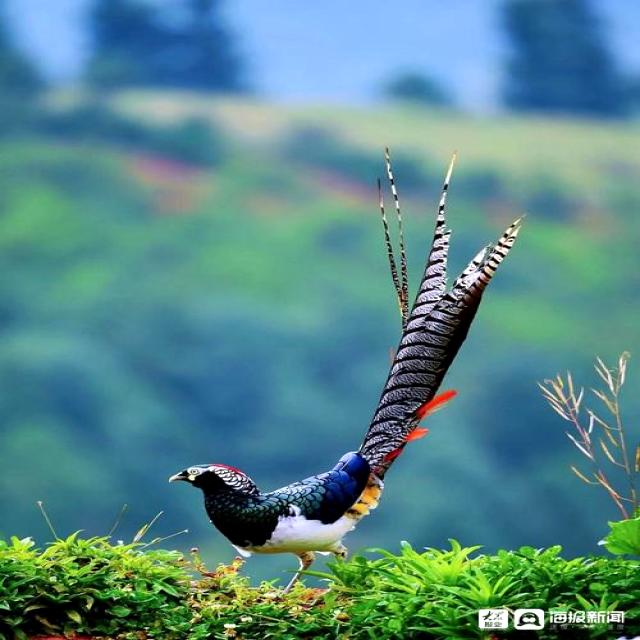Chrysolophus amherstiae: (360, 213, 518, 475)
